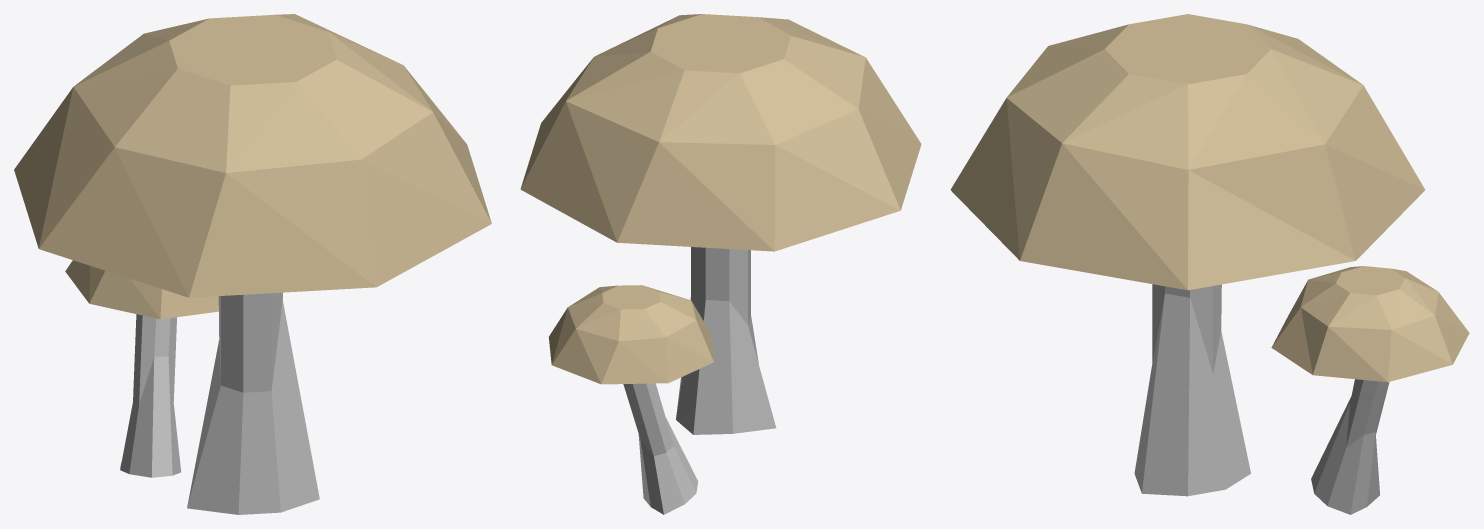
Rendered from Mushroom2.fbx.
3 views of the same model, side by side, from view 1: azimuth 30°, elevation 25°; view 2: azimuth 150°, elevation 25°; view 3: azimuth 270°, elevation 25° (orthographic). The views are drawn at different scales.
Visible parts, largest first — view 1: Disc_6, Disc_7, Disc_5, Disc_4; view 2: Disc_6, Disc_4, Disc_7, Disc_5; view 3: Disc_6, Disc_7, Disc_4, Disc_5.
Boxes of the visible parts, bbox=[...] form: Disc_6: bbox=[14, 14, 491, 297]; Disc_7: bbox=[187, 292, 319, 514]; Disc_5: bbox=[120, 314, 181, 477]; Disc_4: bbox=[65, 260, 218, 319]; Disc_6: bbox=[520, 14, 921, 251]; Disc_4: bbox=[548, 285, 713, 384]; Disc_7: bbox=[676, 247, 776, 434]; Disc_5: bbox=[623, 383, 698, 514]; Disc_6: bbox=[950, 14, 1425, 290]; Disc_7: bbox=[1134, 284, 1250, 496]; Disc_4: bbox=[1271, 266, 1469, 382]; Disc_5: bbox=[1311, 379, 1389, 514].
Size of the model in its own units: 80 by 85.92 by 87.43.
